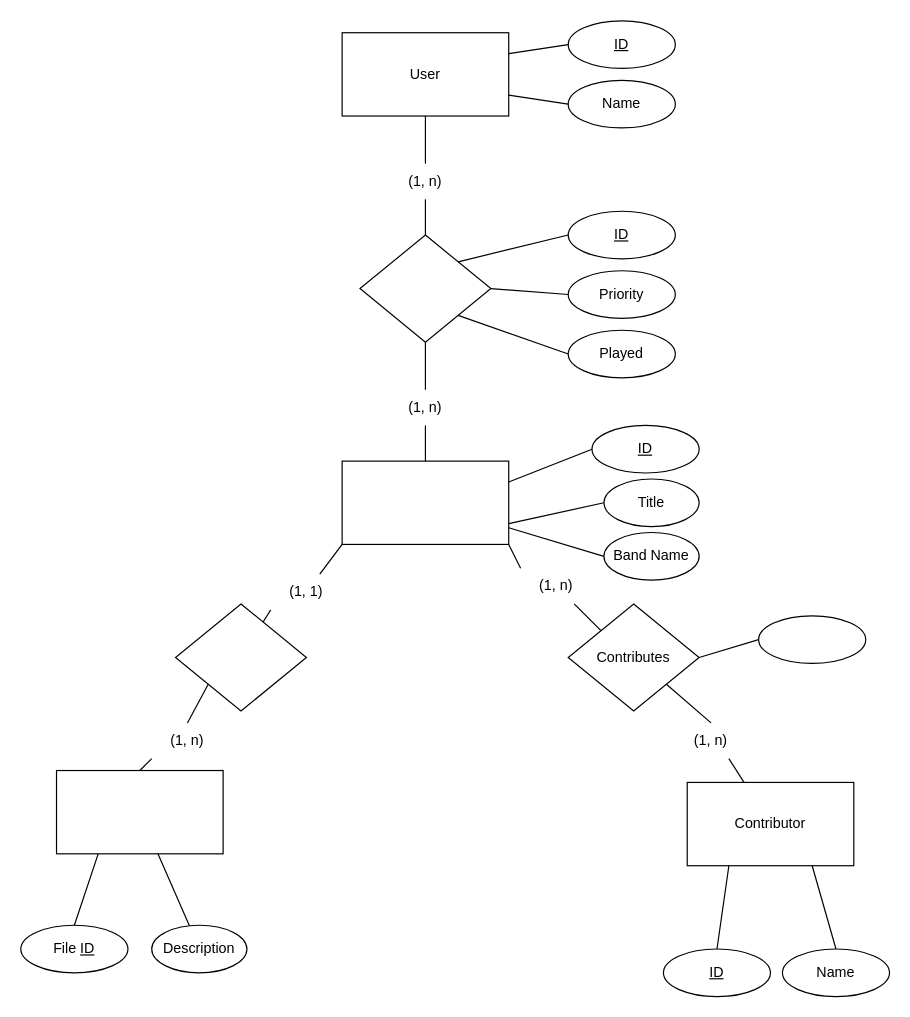
Image size: 910x1017. Some labels were removed from this diagram. Each missing label, with the centre of its shape:
File: the point at 139,811
Has: the point at 240,657
Request Queue: the point at 425,288
Role: the point at 811,639
Song: the point at 425,502
